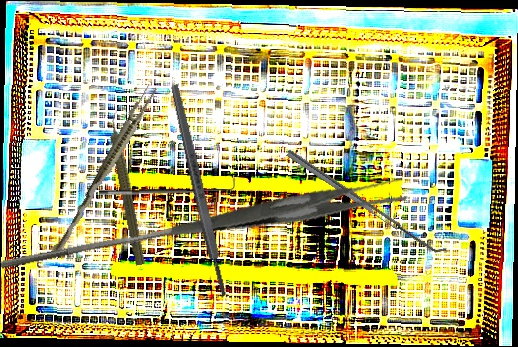Dressing Forceps: (170, 146, 410, 268)
Handpiece: (102, 105, 152, 267)
Hook Surgical: (98, 177, 237, 198)
Pusher: (0, 209, 229, 278)
Scalpel Handle: (168, 82, 230, 299)
Spatula Surgical: (286, 143, 448, 260)
Tissue Forceps: (49, 81, 160, 260)
